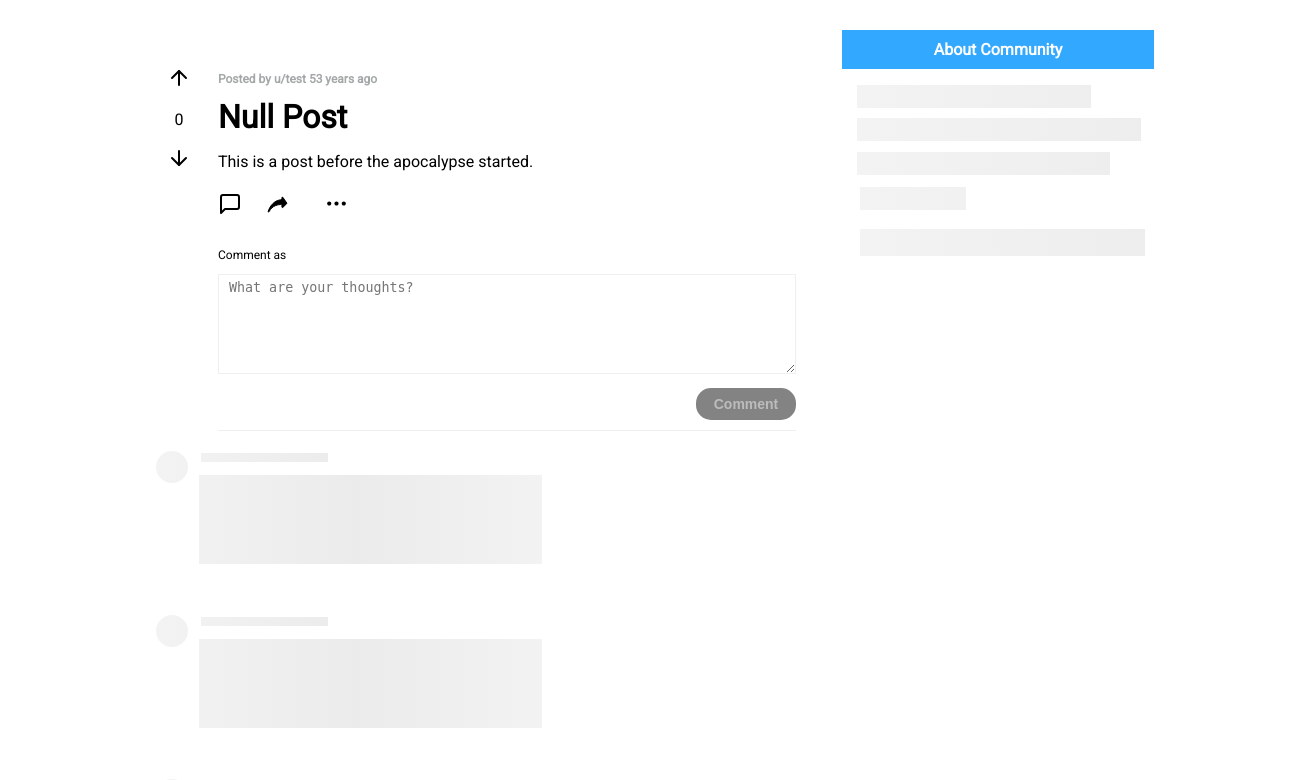
Test: PostDetails › ShowMore works in the context of a post › Authenticated user can save a post
Click the element with test id "show-more": (336, 204) [324,191,349,216]
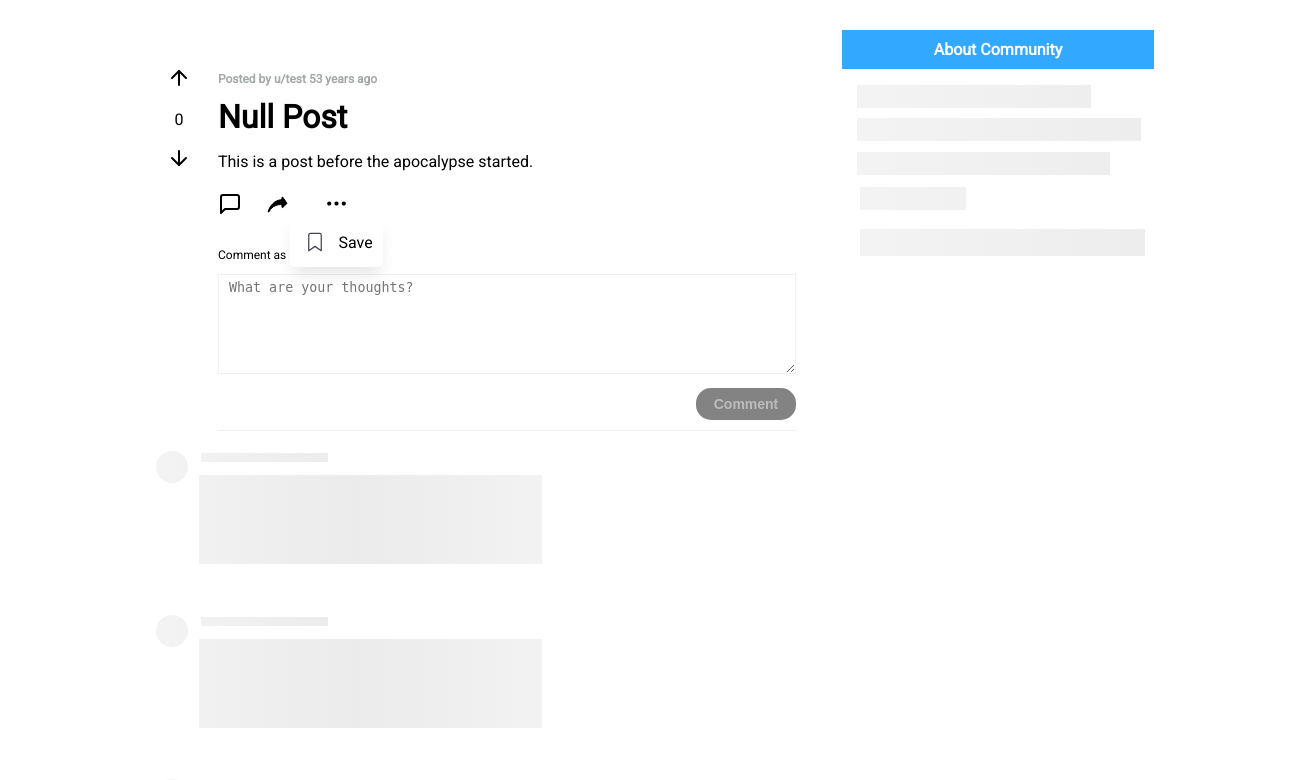
Click the list item with test id "save": (336, 242) [300,227,373,257]
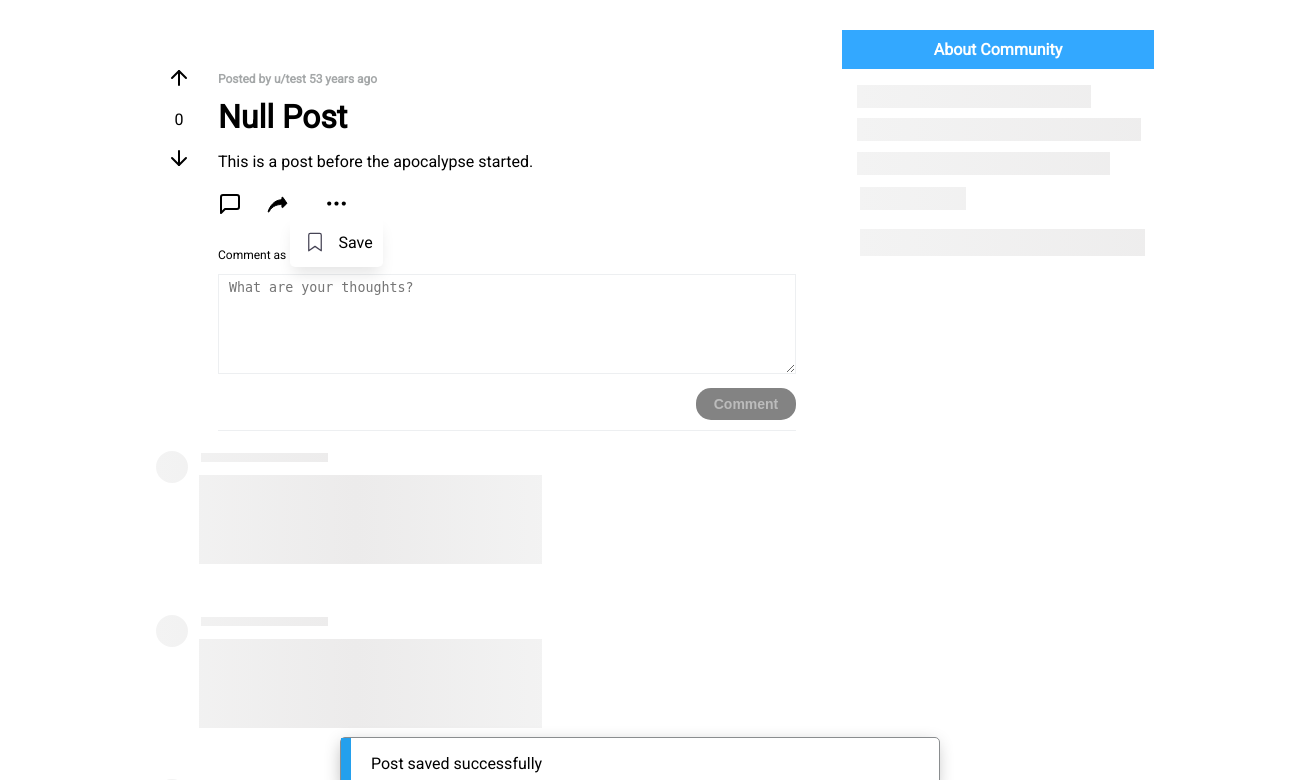
Expected: the text "Post saved successfully" is shown, [371,754,542,773]
